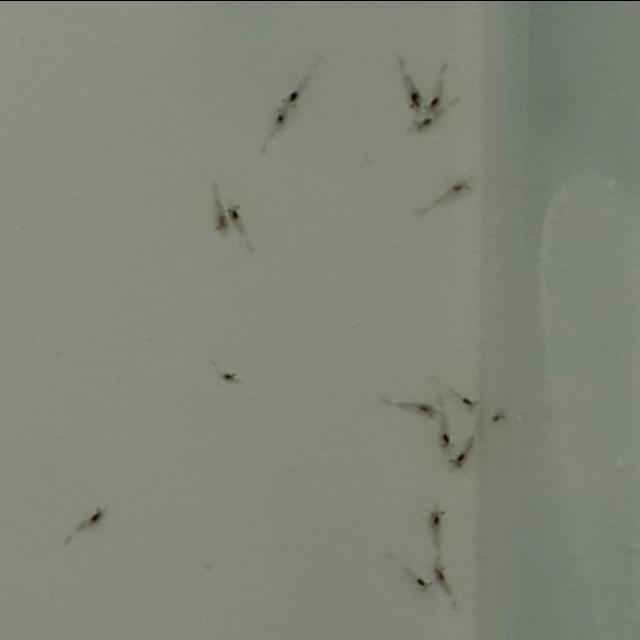shrimp-seed: (407, 115, 438, 139), (414, 398, 442, 420), (448, 176, 476, 197), (458, 392, 482, 416), (87, 504, 113, 526), (448, 448, 473, 470), (426, 505, 448, 528), (431, 558, 450, 584), (422, 92, 444, 114), (212, 210, 234, 232), (406, 86, 426, 110), (281, 87, 302, 109), (436, 429, 456, 452), (410, 574, 433, 594), (270, 106, 290, 128), (225, 202, 245, 221)
